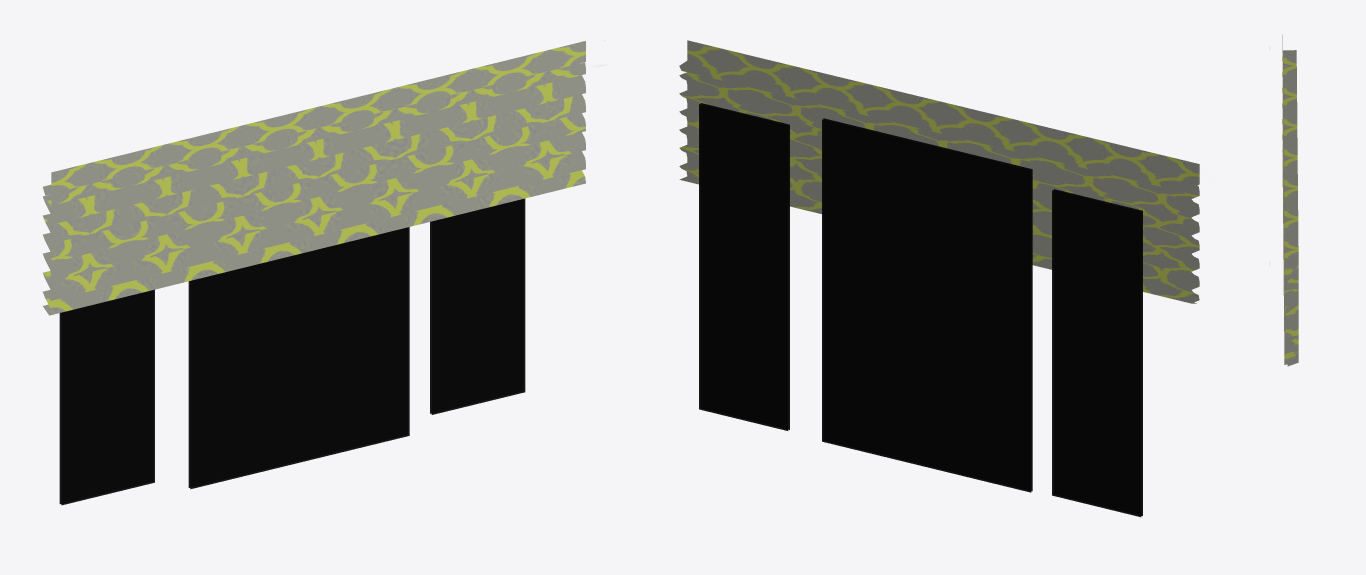
File: uploads-files-3101237-PM_Baked_Window.glb
3 views of the same model, side by side, from view 1: azimuth 30°, elevation 25°; view 2: azimuth 150°, elevation 25°; view 3: azimuth 270°, elevation 25° (orthographic). The views are drawn at different scales.
Parts seen in each view (by area): view 1: Window, Shade; view 2: Window, Shade; view 3: Shade.
Part boxes in pixels (box(x1,y1,x2,y2)): Window: box(59, 198, 525, 505); Shade: box(43, 41, 585, 315); Window: box(699, 103, 1142, 517); Shade: box(679, 40, 1199, 303); Shade: box(1282, 34, 1298, 366).
Bounding box in the file's own units: 11.17 × 7.32 × 1.8.
2 materials, 2 textured.
